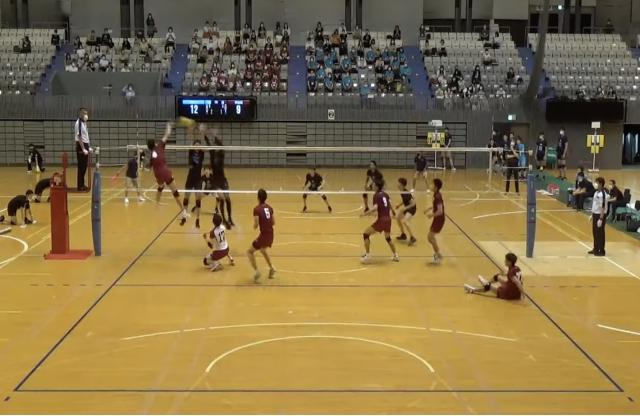spike: (142, 114, 192, 224)
